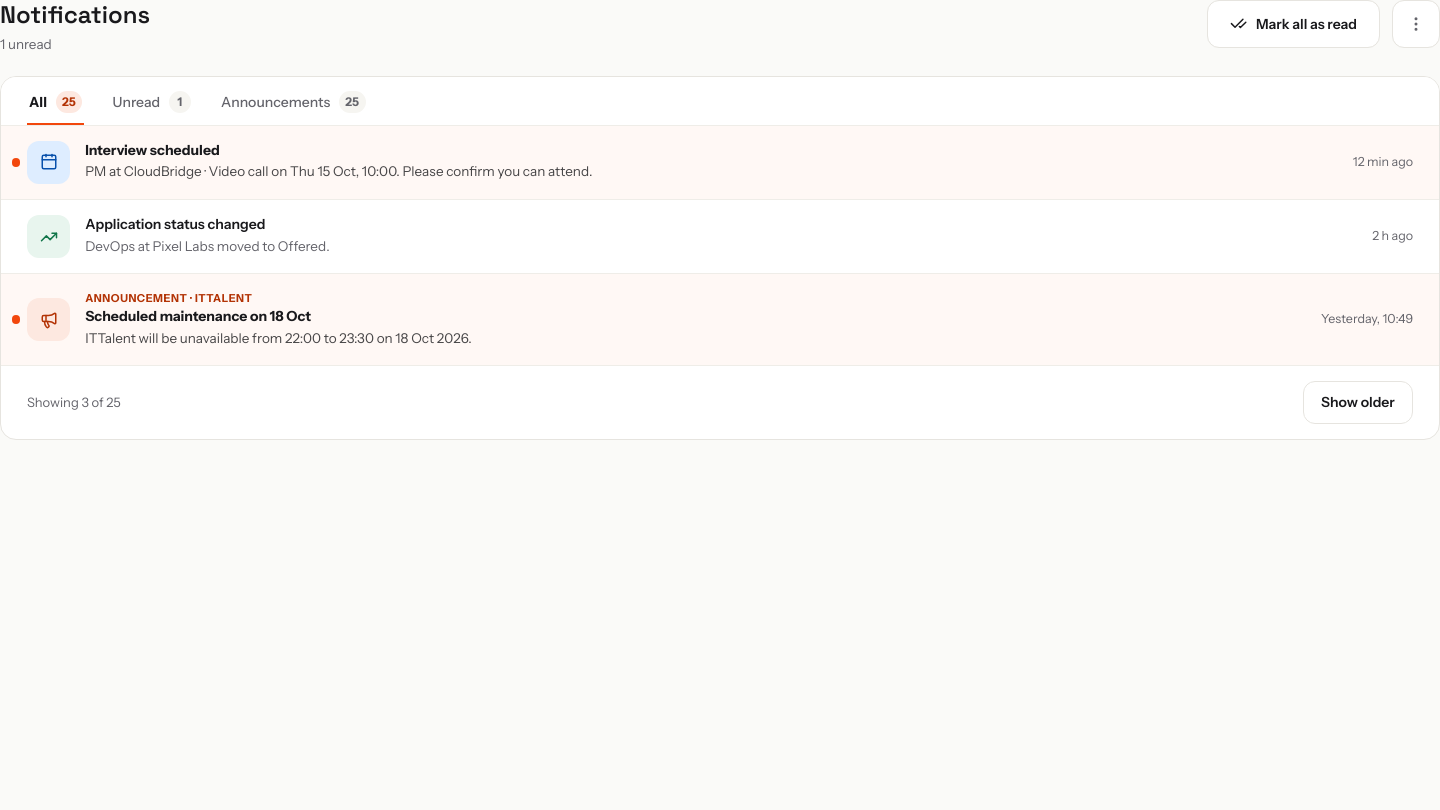
Test: NotificationCenterPage & NotificationItemRow Suite › NotificationCenterPage › uses singular wording when 1 unread notification is marked as read
This screenshot has width=1440, height=810.
Click the button "Mark all as read" at (1293, 24), box [1207,0,1380,48]
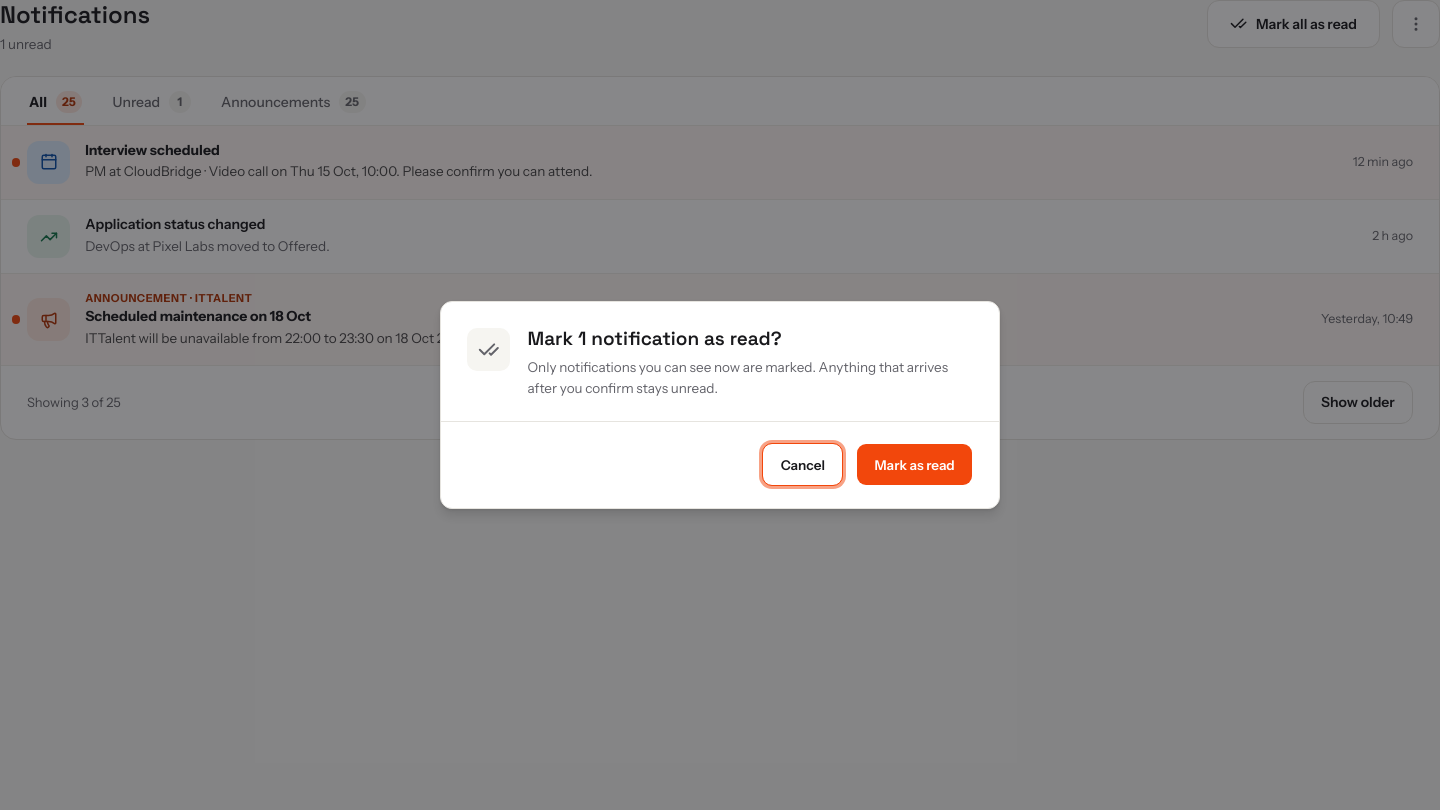
Expected: the heading "Mark 1 notification as read?" is shown, [528,326,782,351]
Expected: the button "Mark as read" is shown, [856,443,973,486]
